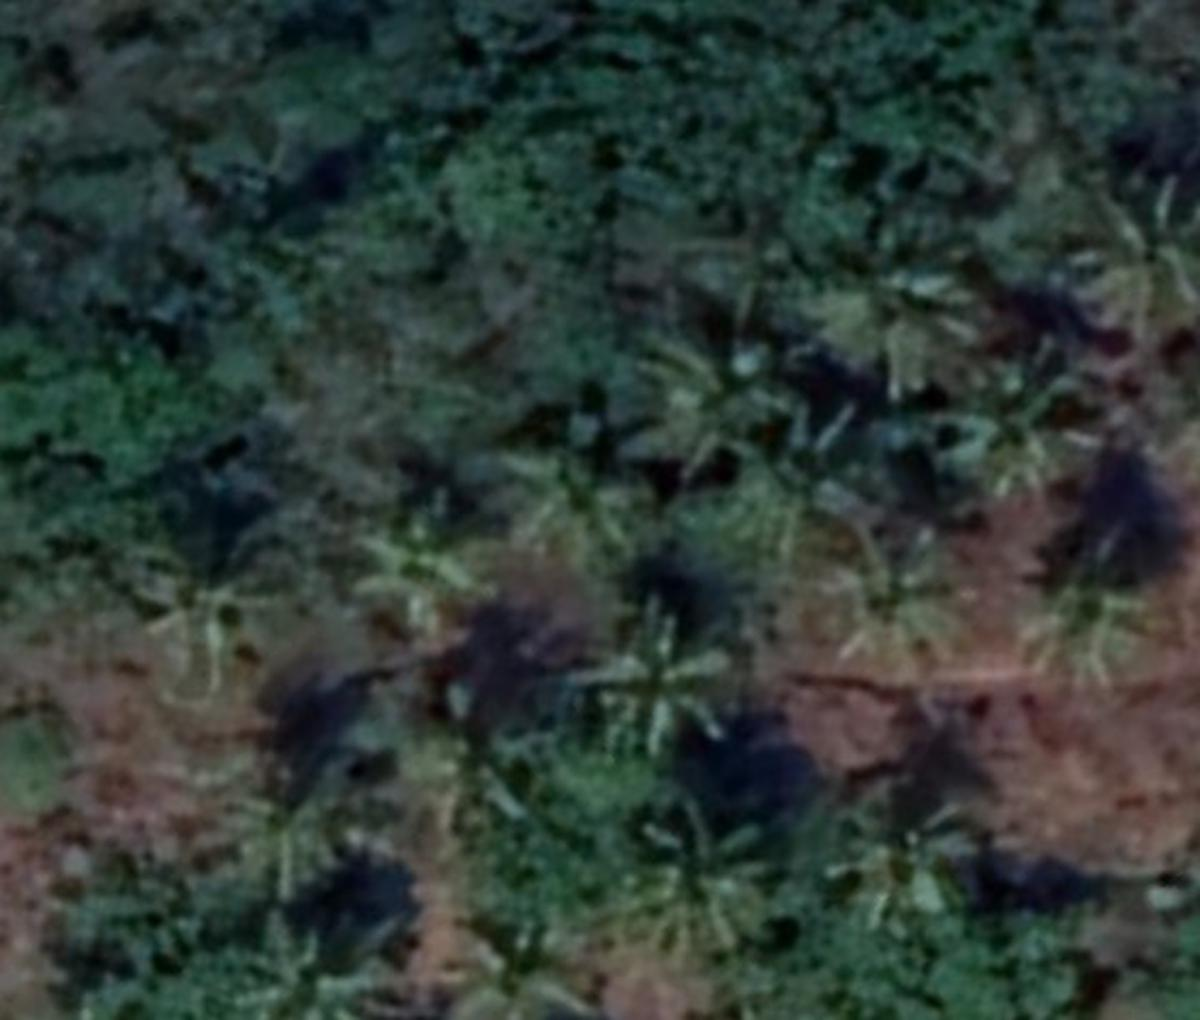coconut: (807, 222, 964, 379), (488, 409, 666, 546), (1062, 162, 1200, 338), (334, 490, 490, 642), (582, 600, 737, 752), (938, 342, 1095, 492), (837, 773, 985, 930), (220, 758, 370, 910), (394, 679, 537, 825), (608, 805, 767, 934), (825, 522, 966, 666), (717, 407, 863, 537), (647, 312, 784, 445), (147, 557, 280, 683), (237, 912, 400, 1015), (441, 915, 595, 1020), (1026, 537, 1140, 677)
